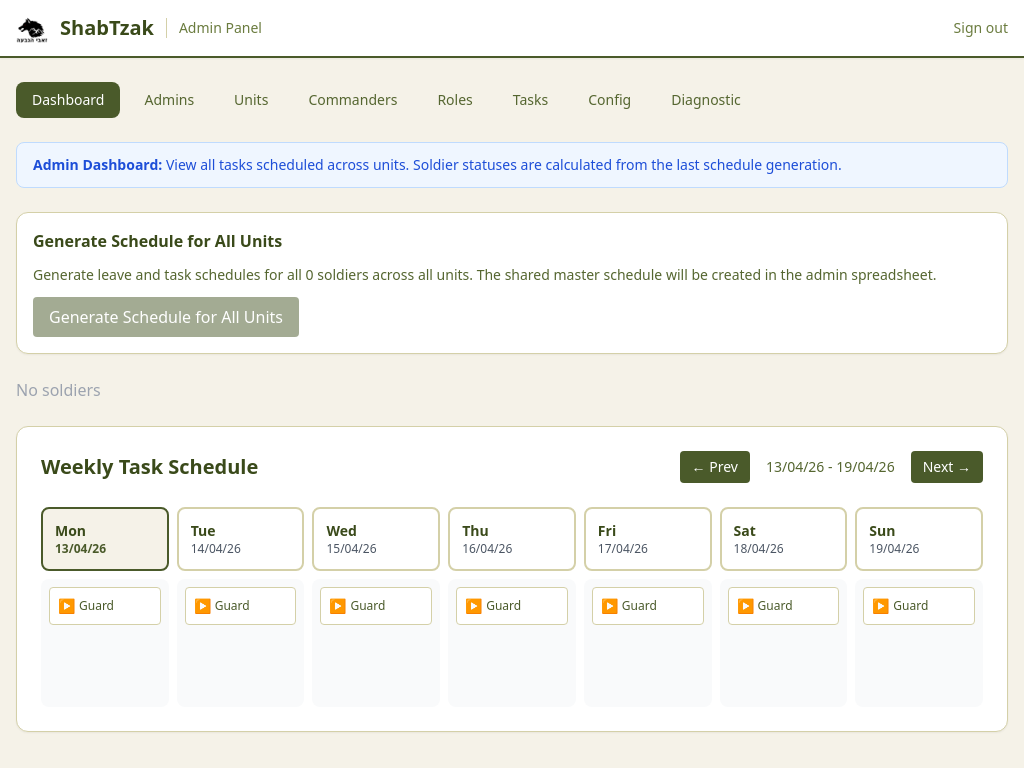
Test: AdminPanel › renders Roles tab with empty state when no roles are configured
Step 1. Click the button "Roles" → (455,100), box x1=421 y1=82 x2=489 y2=118
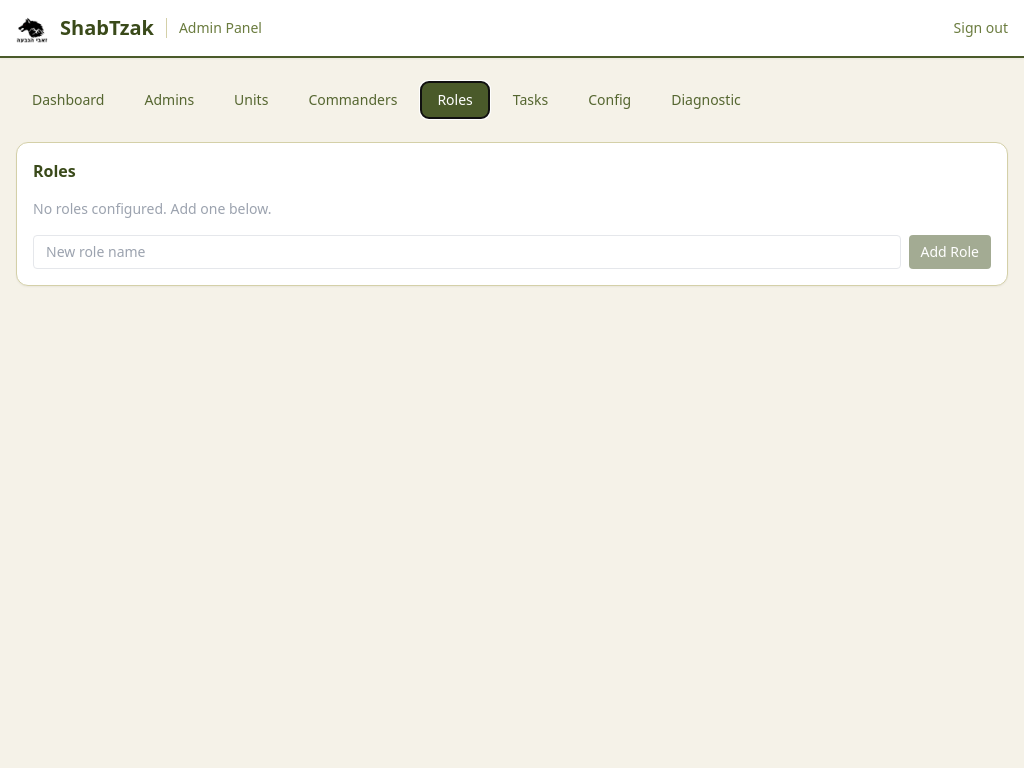
Now the text "No roles configured. Add one below." is shown, box x1=33 y1=199 x2=272 y2=218
